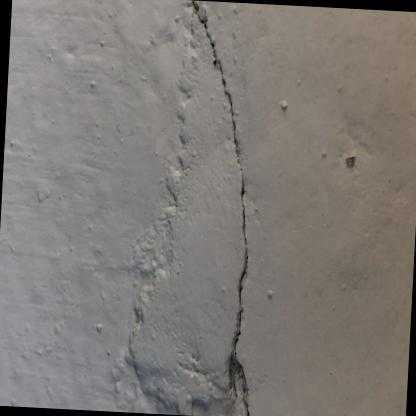crack: (188, 0, 249, 416)
